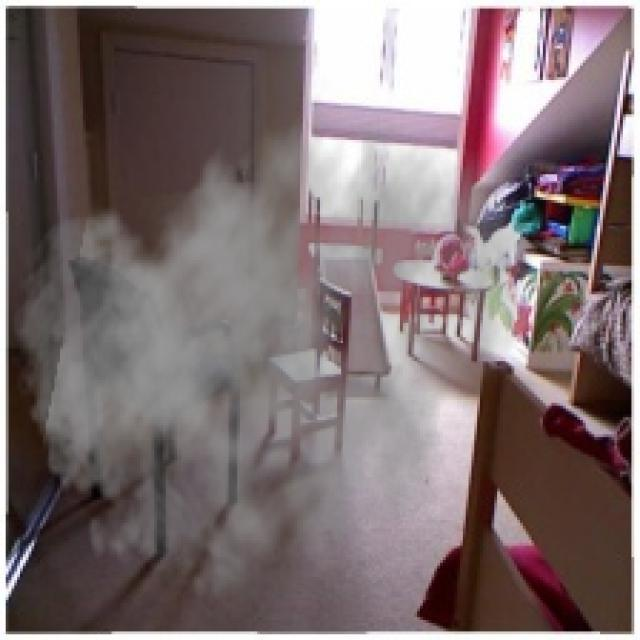Smoke: (6, 74, 534, 620)
